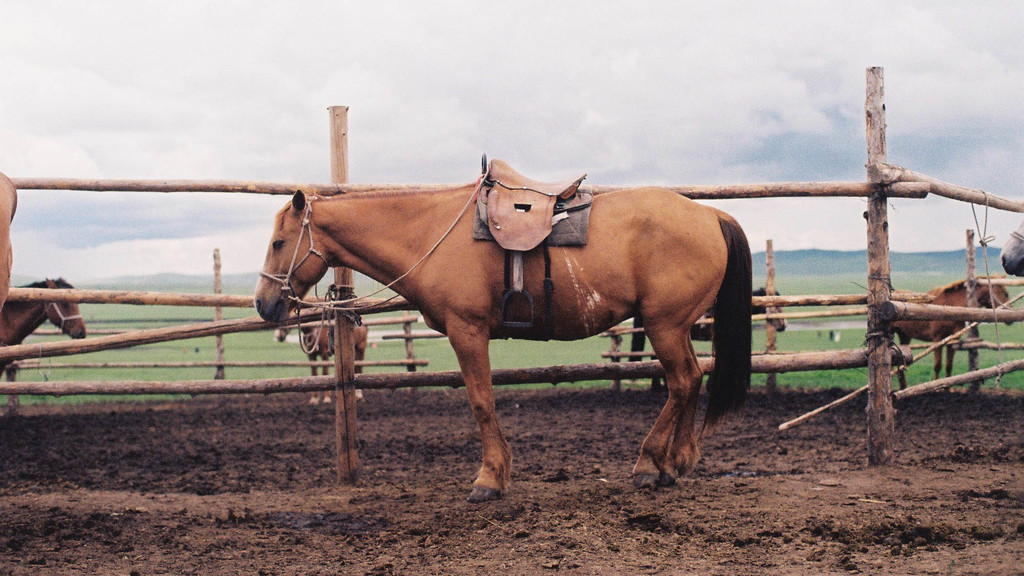horse: (252, 181, 751, 503)
